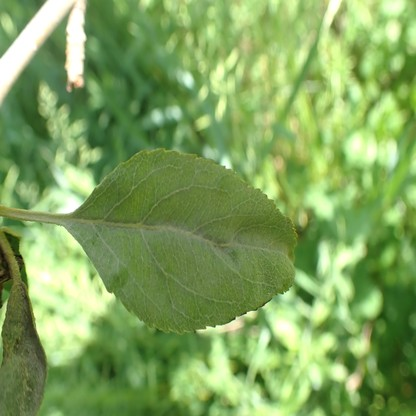powdery_mildew: (0, 284, 48, 415), (71, 223, 117, 278), (239, 233, 290, 256), (213, 238, 239, 269)
